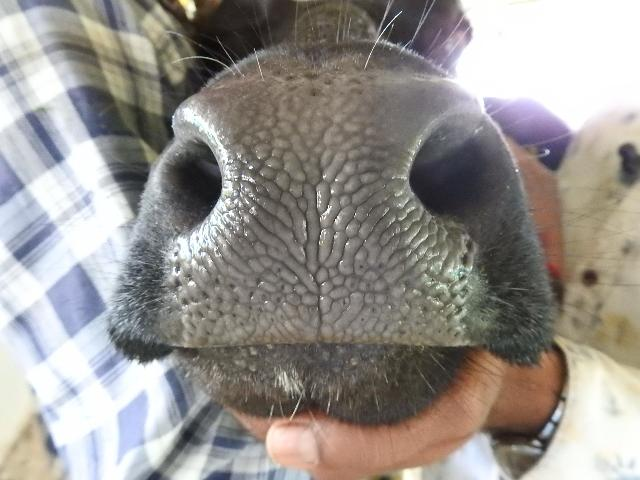Muzzle: (201, 102, 425, 343)
